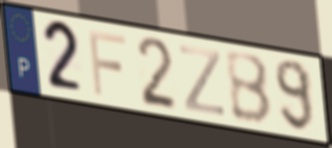2: (38, 19, 89, 98), (134, 34, 179, 113)
9: (273, 58, 315, 137)
B: (223, 51, 275, 128)
F: (86, 27, 128, 98)
Z: (178, 42, 226, 119)
